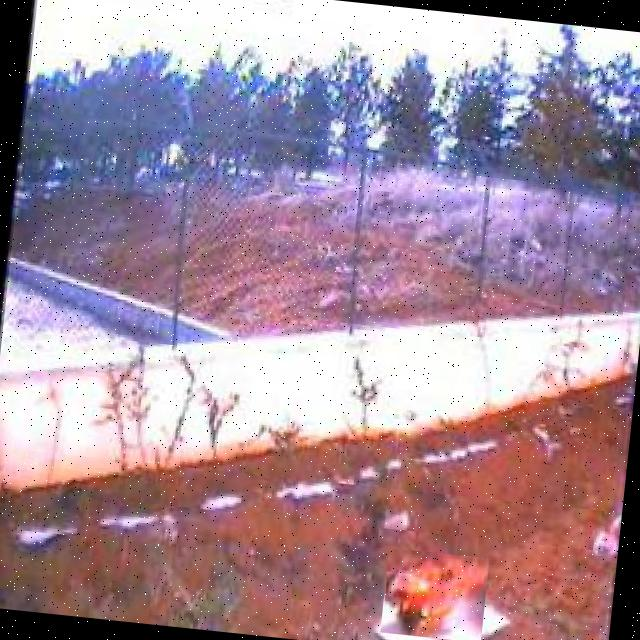fire: (380, 547, 489, 640)
